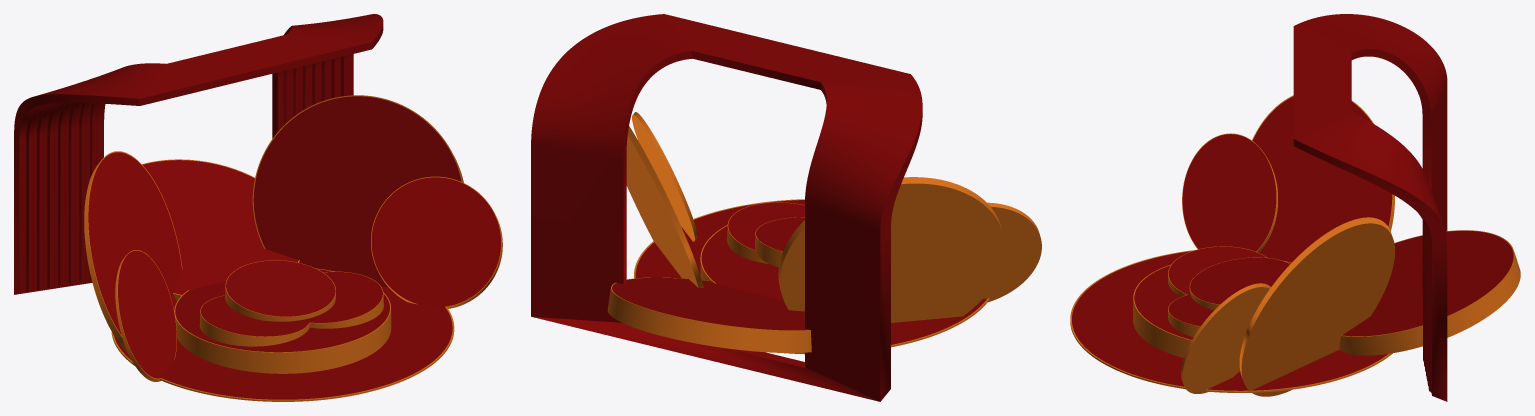
The model's file is PODIUM ART 4.fbx.
3 renders of one model, left to right at view 1: azimuth 30°, elevation 25°; view 2: azimuth 150°, elevation 25°; view 3: azimuth 270°, elevation 25°, orthographic. The views are drawn at different scales.
Visible parts, largest first — view 1: decor, podium, podium010; view 2: decor, podium010, podium, PODIUM_ART_4_obj; view 3: decor, podium, podium010.
Part boxes in pixels (left/top/right/bottom): decor: left=14, top=14, right=502, bottom=381; podium: left=111, top=260, right=454, bottom=401; podium010: left=142, top=159, right=299, bottom=301; decor: left=531, top=14, right=1041, bottom=401; podium010: left=607, top=277, right=811, bottom=352; podium: left=634, top=199, right=989, bottom=354; PODIUM_ART_4_obj: left=733, top=252, right=779, bottom=287; decor: left=1181, top=14, right=1447, bottom=401; podium: left=1070, top=246, right=1392, bottom=392; podium010: left=1339, top=230, right=1520, bottom=355.
Bounding box in the file's own units: 40.64 × 26.72 × 41.76.
